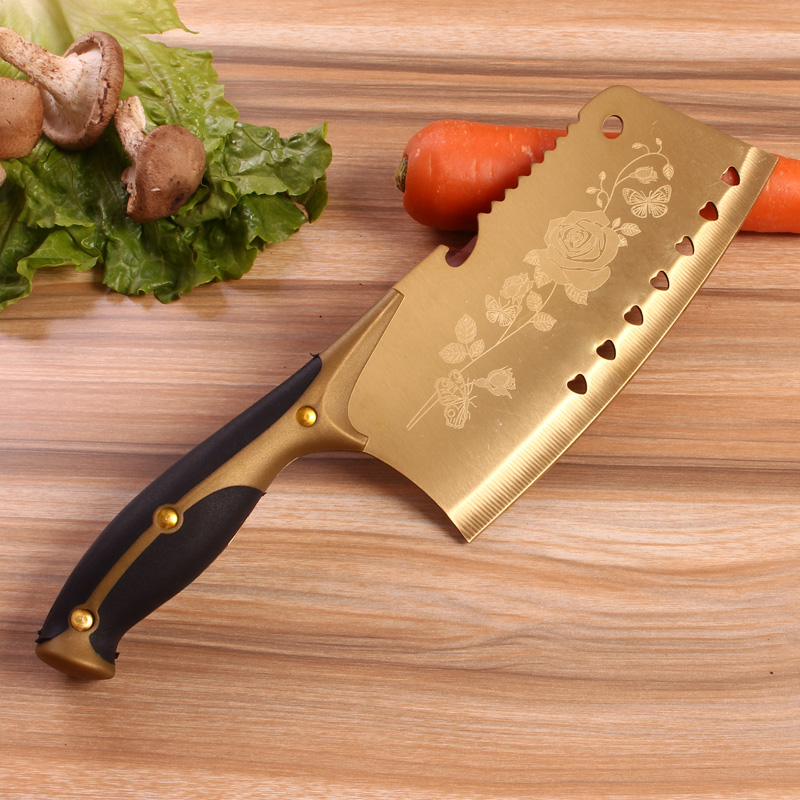knief: (45, 77, 772, 685)
